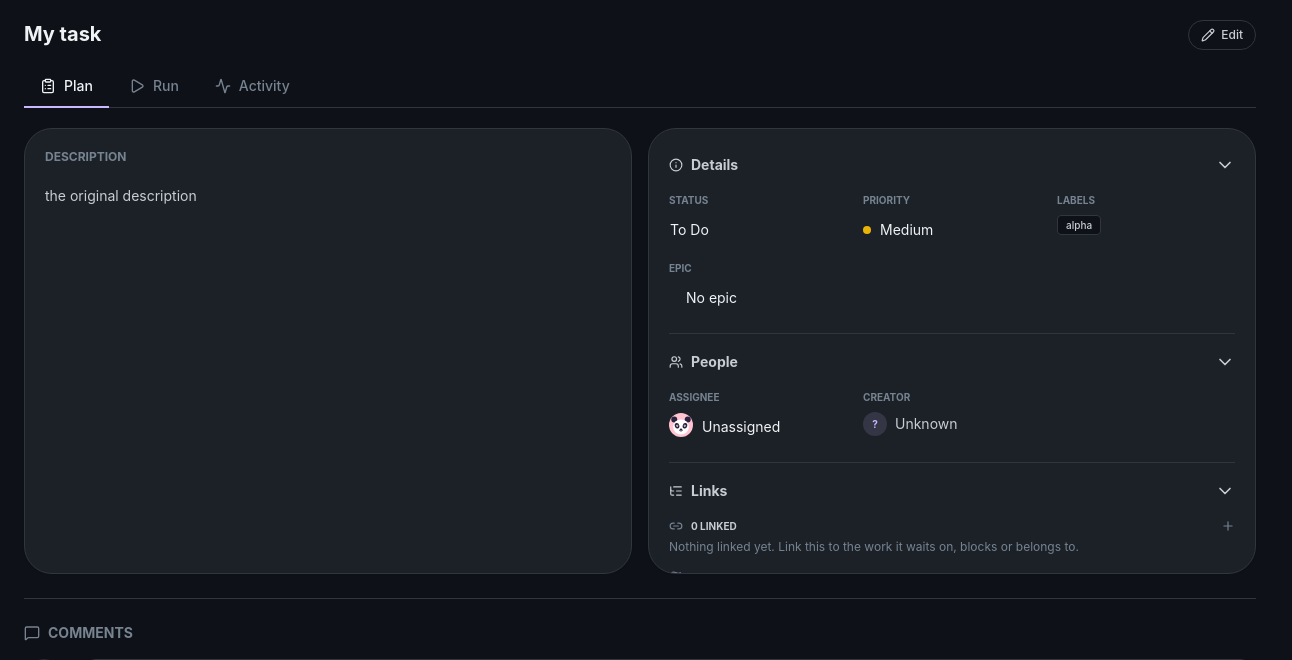
Test case: TaskPage — detail view (AP-353) › Cancel exits edit mode without saving
The width and height of the screenshot is (1292, 660).
Check: the heading "My task" is shown, box x1=24 y1=20 x2=102 y2=48
Click the button titled "Edit task" at x=1222, y=35, box x1=1188 y1=20 x2=1256 y2=50
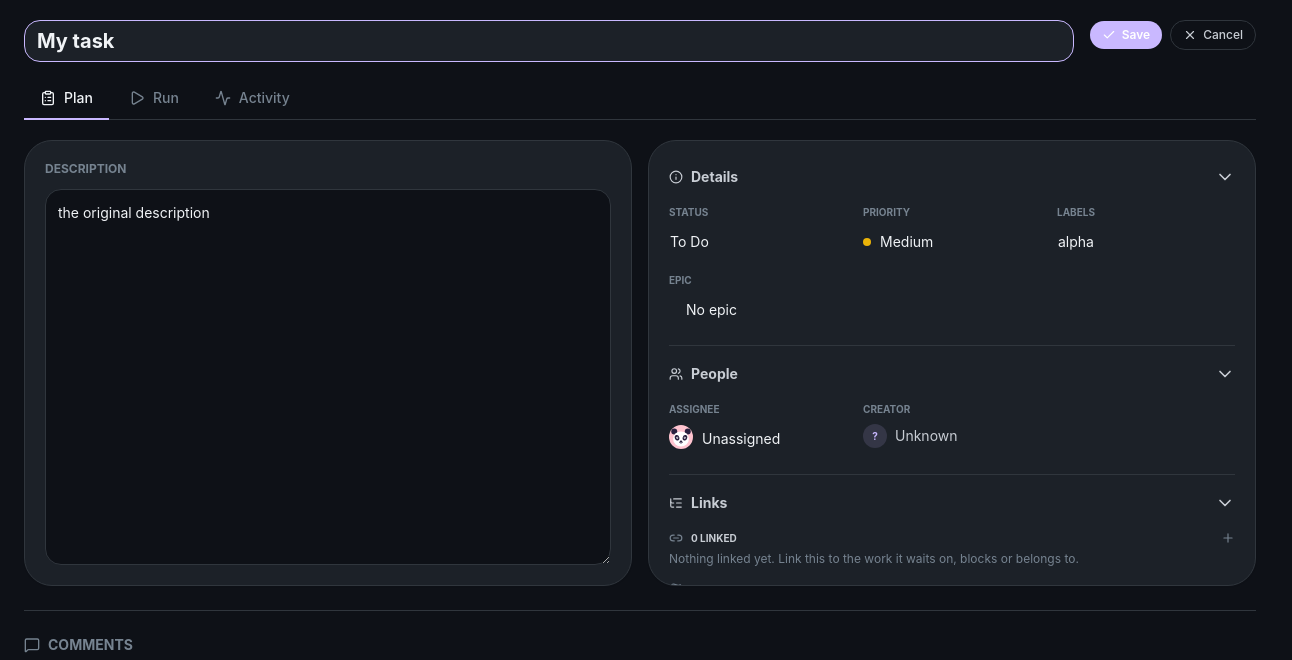
Replace the text in the field named "Title" with "discard me" at x=549, y=41, box x1=24 y1=20 x2=1074 y2=62
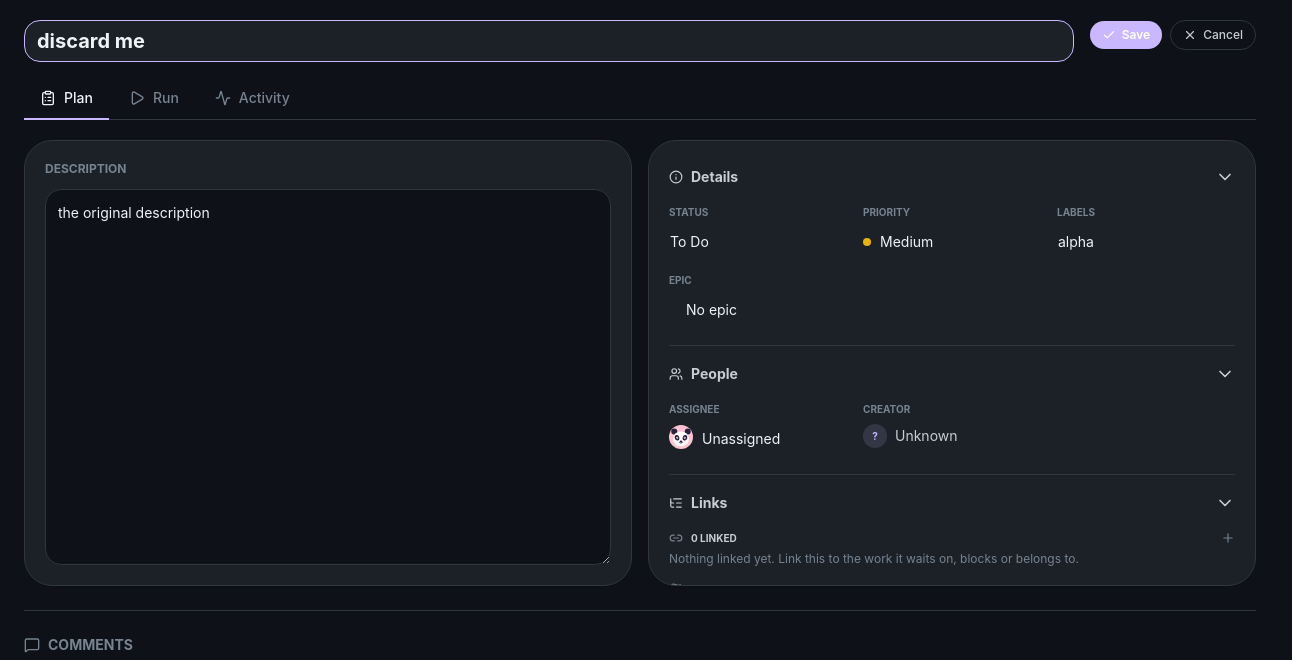
Click the button "Cancel" at x=1213, y=35, box x1=1170 y1=20 x2=1256 y2=50
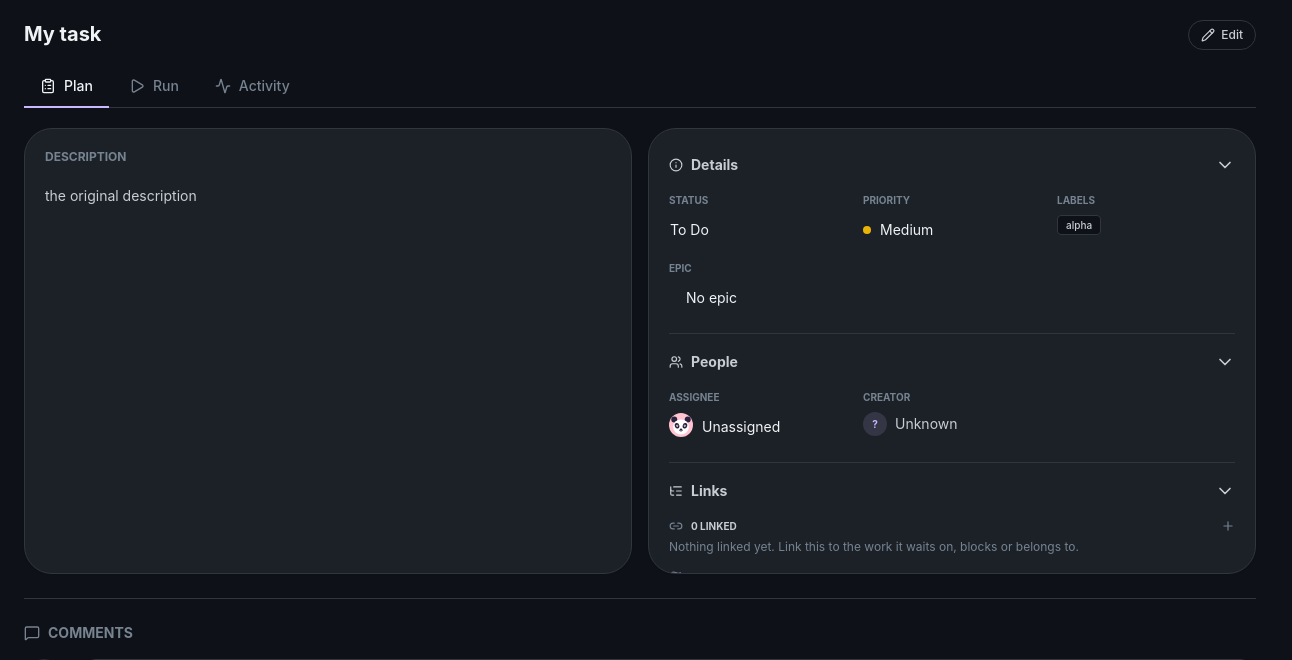
Check: the field labelled "Title" is gone
Check: the button titled "Edit task" is shown, box x1=1188 y1=20 x2=1256 y2=50
